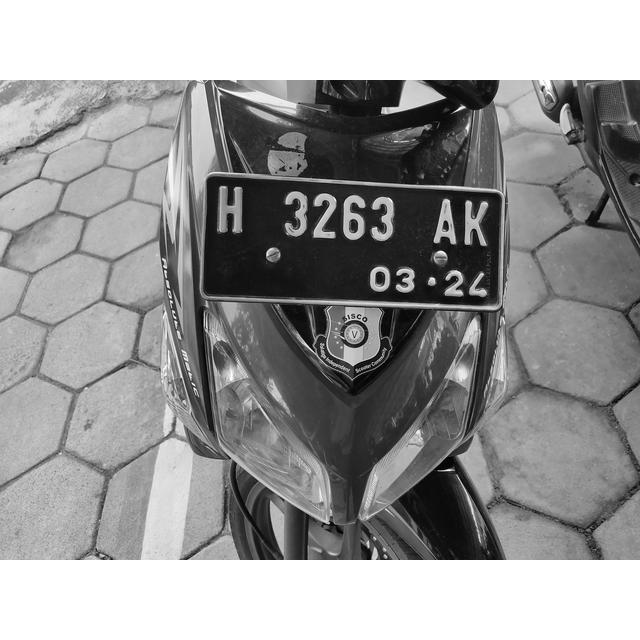license: (211, 181, 497, 301)
